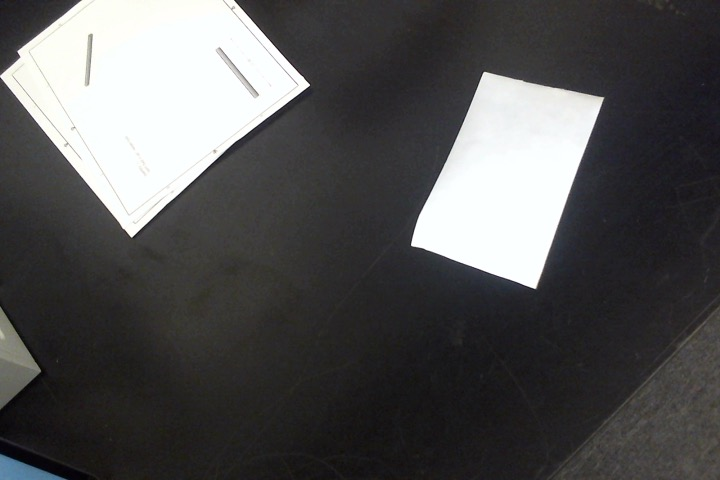Tape: (411, 72, 607, 290)
